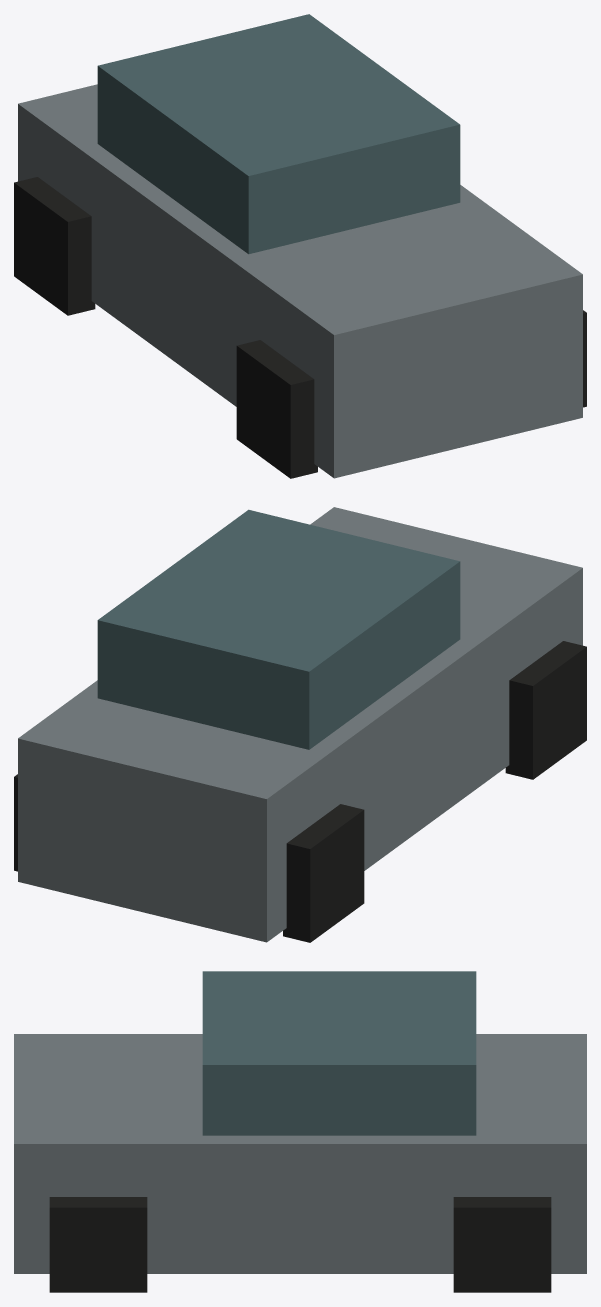
The model's file is car_sedan_01.glb.
3 views of the same model, one above another, from view 1: azimuth 30°, elevation 25°; view 2: azimuth 150°, elevation 25°; view 3: azimuth 270°, elevation 25° (orthographic). The views are drawn at different scales.
Size of the model in its own units: 2.38 by 1.77 by 4.4.
